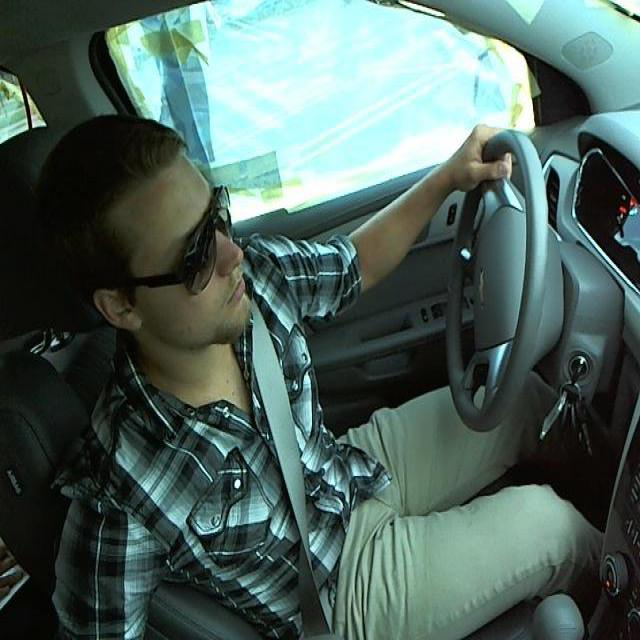seatbelt: (248, 328, 366, 635)
